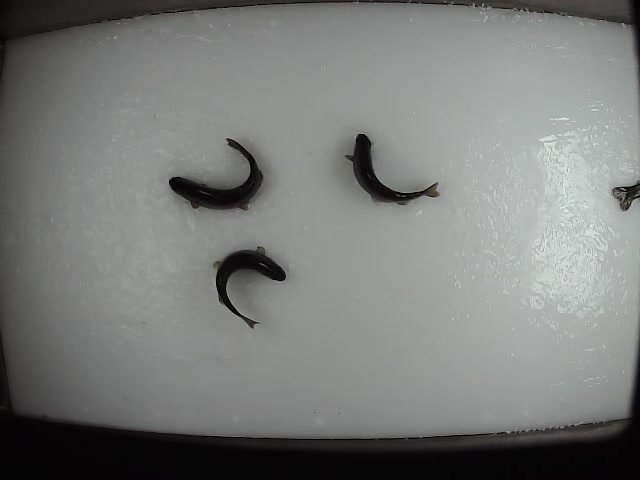fish: (167, 134, 263, 214), (343, 131, 441, 208), (210, 243, 287, 330)
